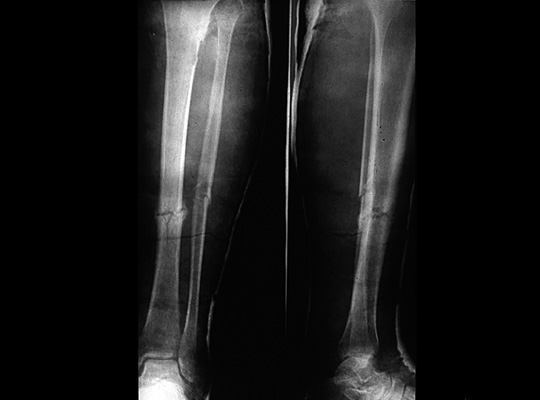fracture: (360, 203, 393, 227), (151, 206, 189, 218), (191, 190, 213, 203)
